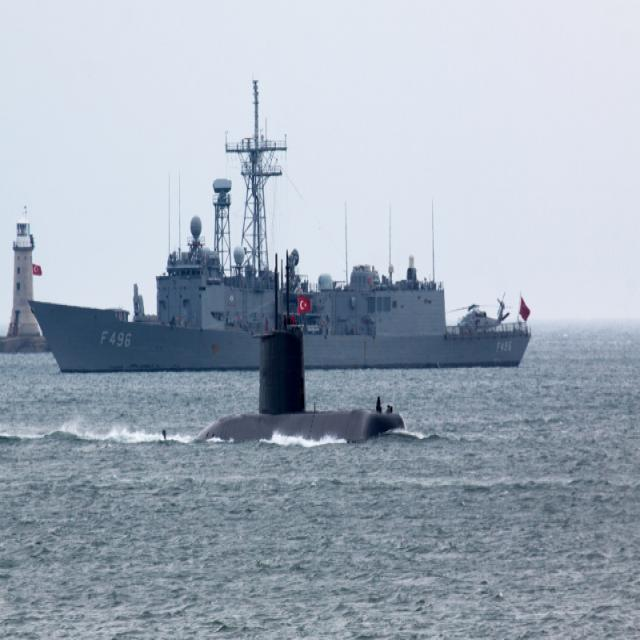submarine: (172, 260, 411, 449)
